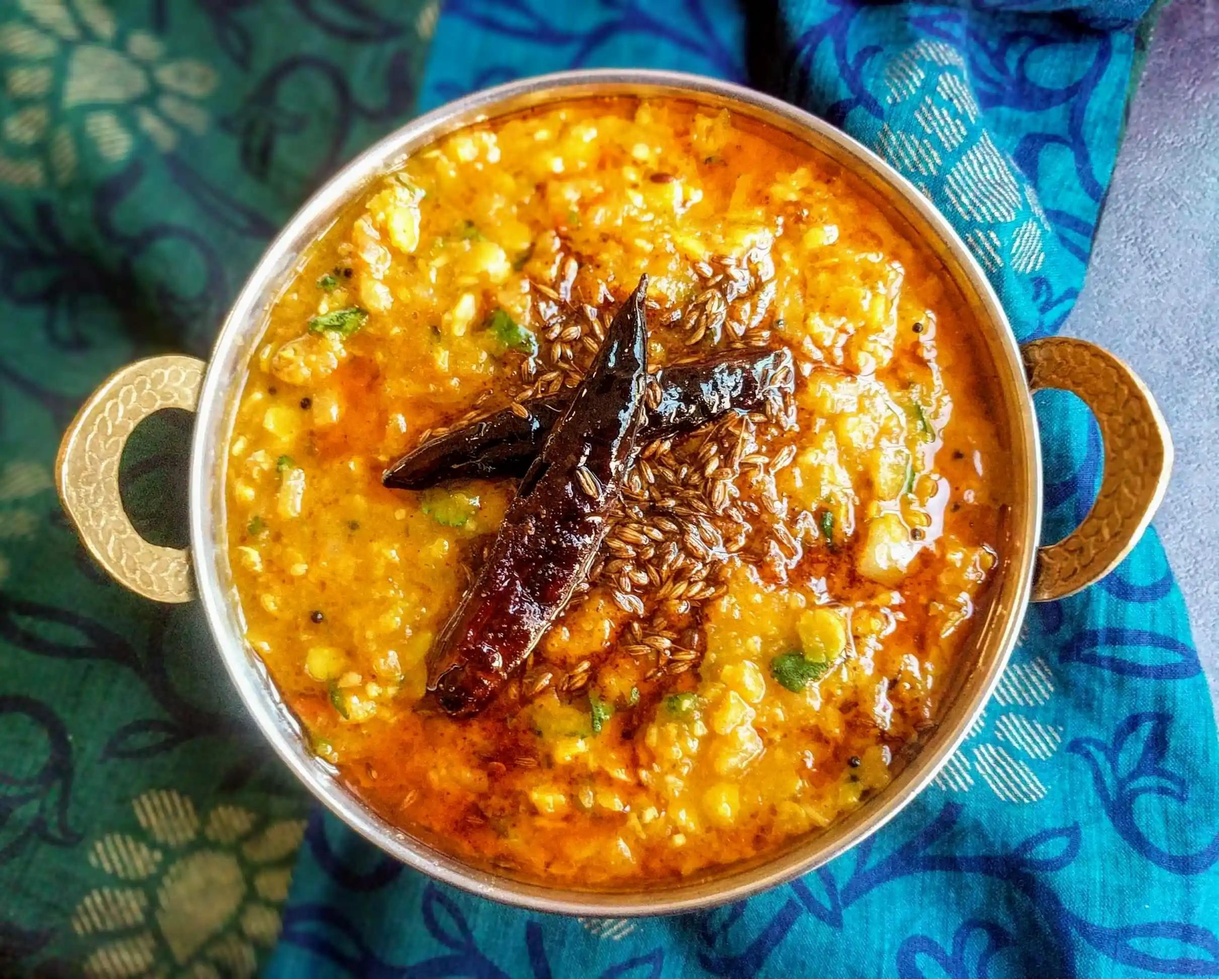Dal: (226, 99, 1013, 883)
